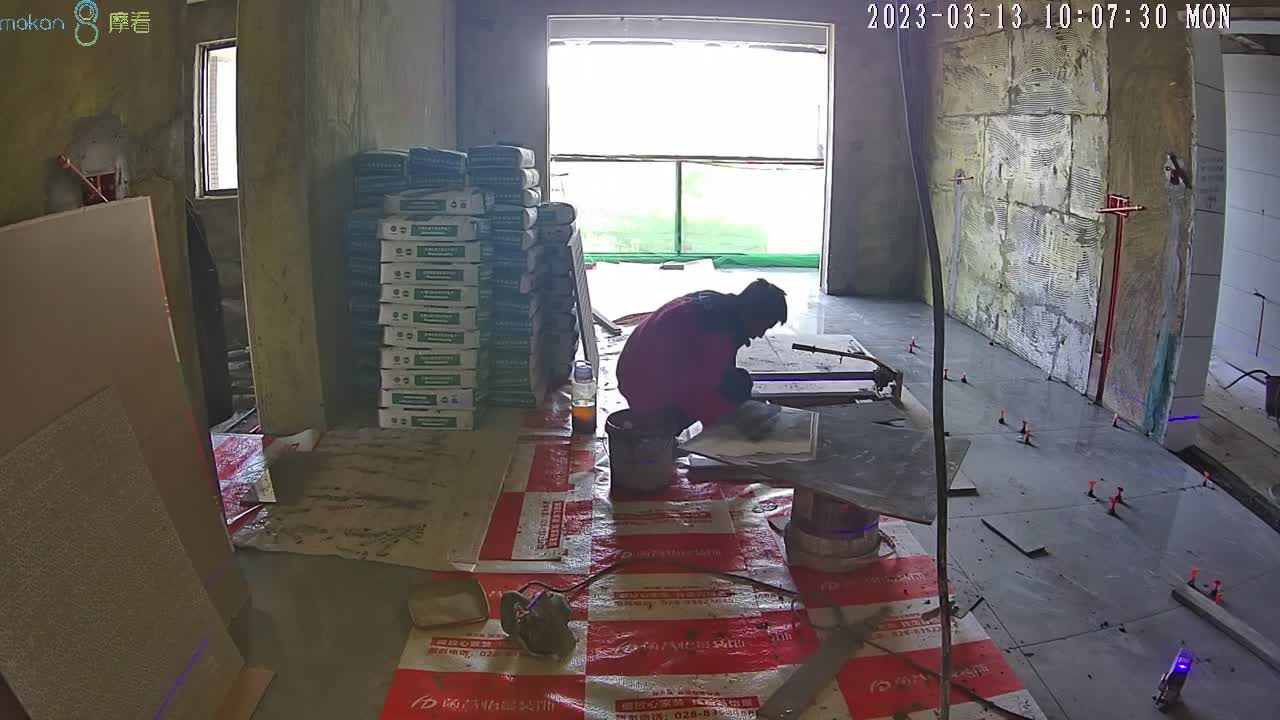people: (615, 279, 790, 436)
window: (550, 37, 827, 264), (203, 47, 242, 194)
